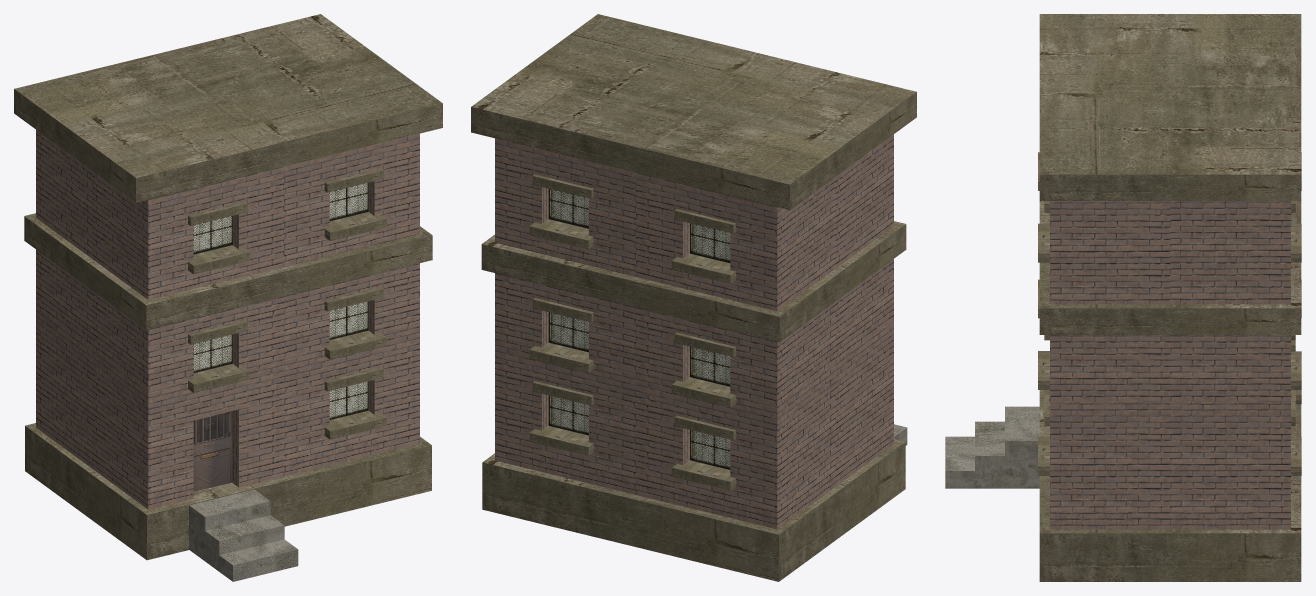
The model's file is Building01B1.fbx.
The picture shows the model from 3 angles, left to right: view 1: azimuth 30°, elevation 25°; view 2: azimuth 150°, elevation 25°; view 3: azimuth 270°, elevation 25°; orthographic projection. The views are drawn at different scales.
Parts seen in each view (by area): view 1: UB; view 2: UB; view 3: UB.
Part boxes in pixels (x1,y1,x2,y2): UB: (14, 14, 442, 581); UB: (471, 14, 916, 581); UB: (945, 14, 1301, 581).
Size of the model in its own units: 5.58 by 6.69 by 5.24.
